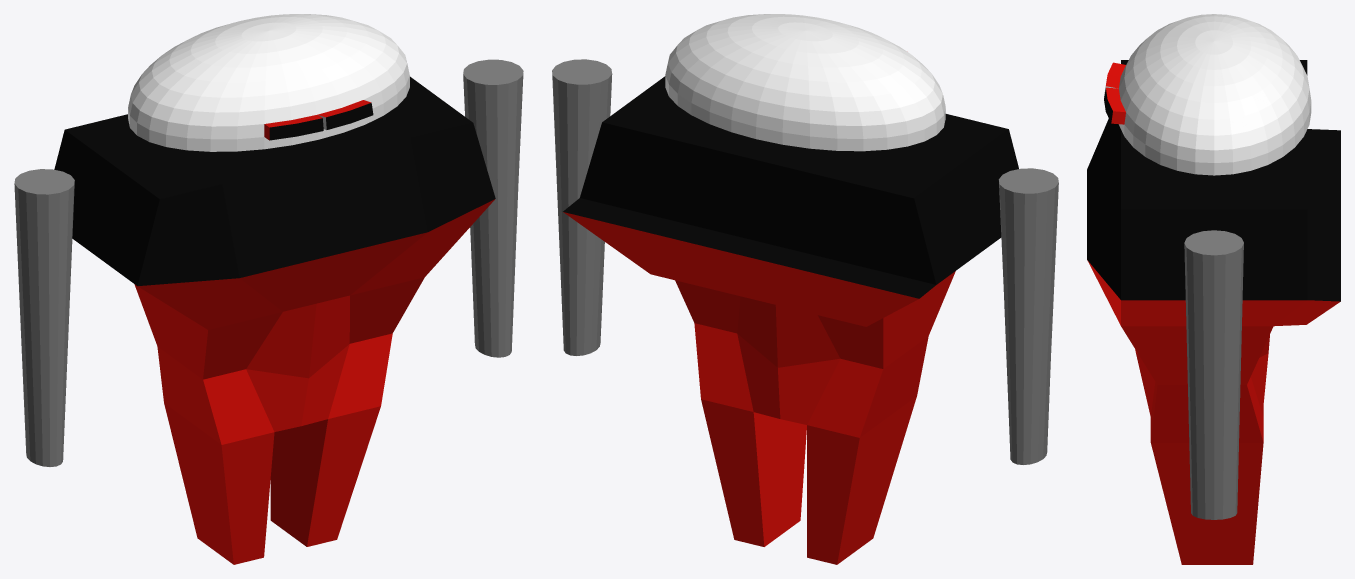
File: RobotLab.fbx
3 views of the same model, side by side, from view 1: azimuth 30°, elevation 25°; view 2: azimuth 150°, elevation 25°; view 3: azimuth 270°, elevation 25° (orthographic). The views are drawn at different scales.
Parts seen in each view (by area): view 1: Torso; view 2: Torso; view 3: Torso.
Boxes of the visible parts, x1,y1,x2,y2 form: Torso: [14, 14, 523, 564]; Torso: [552, 14, 1058, 564]; Torso: [1087, 14, 1340, 564].
Size of the model in its own units: 380 by 369 by 170.
